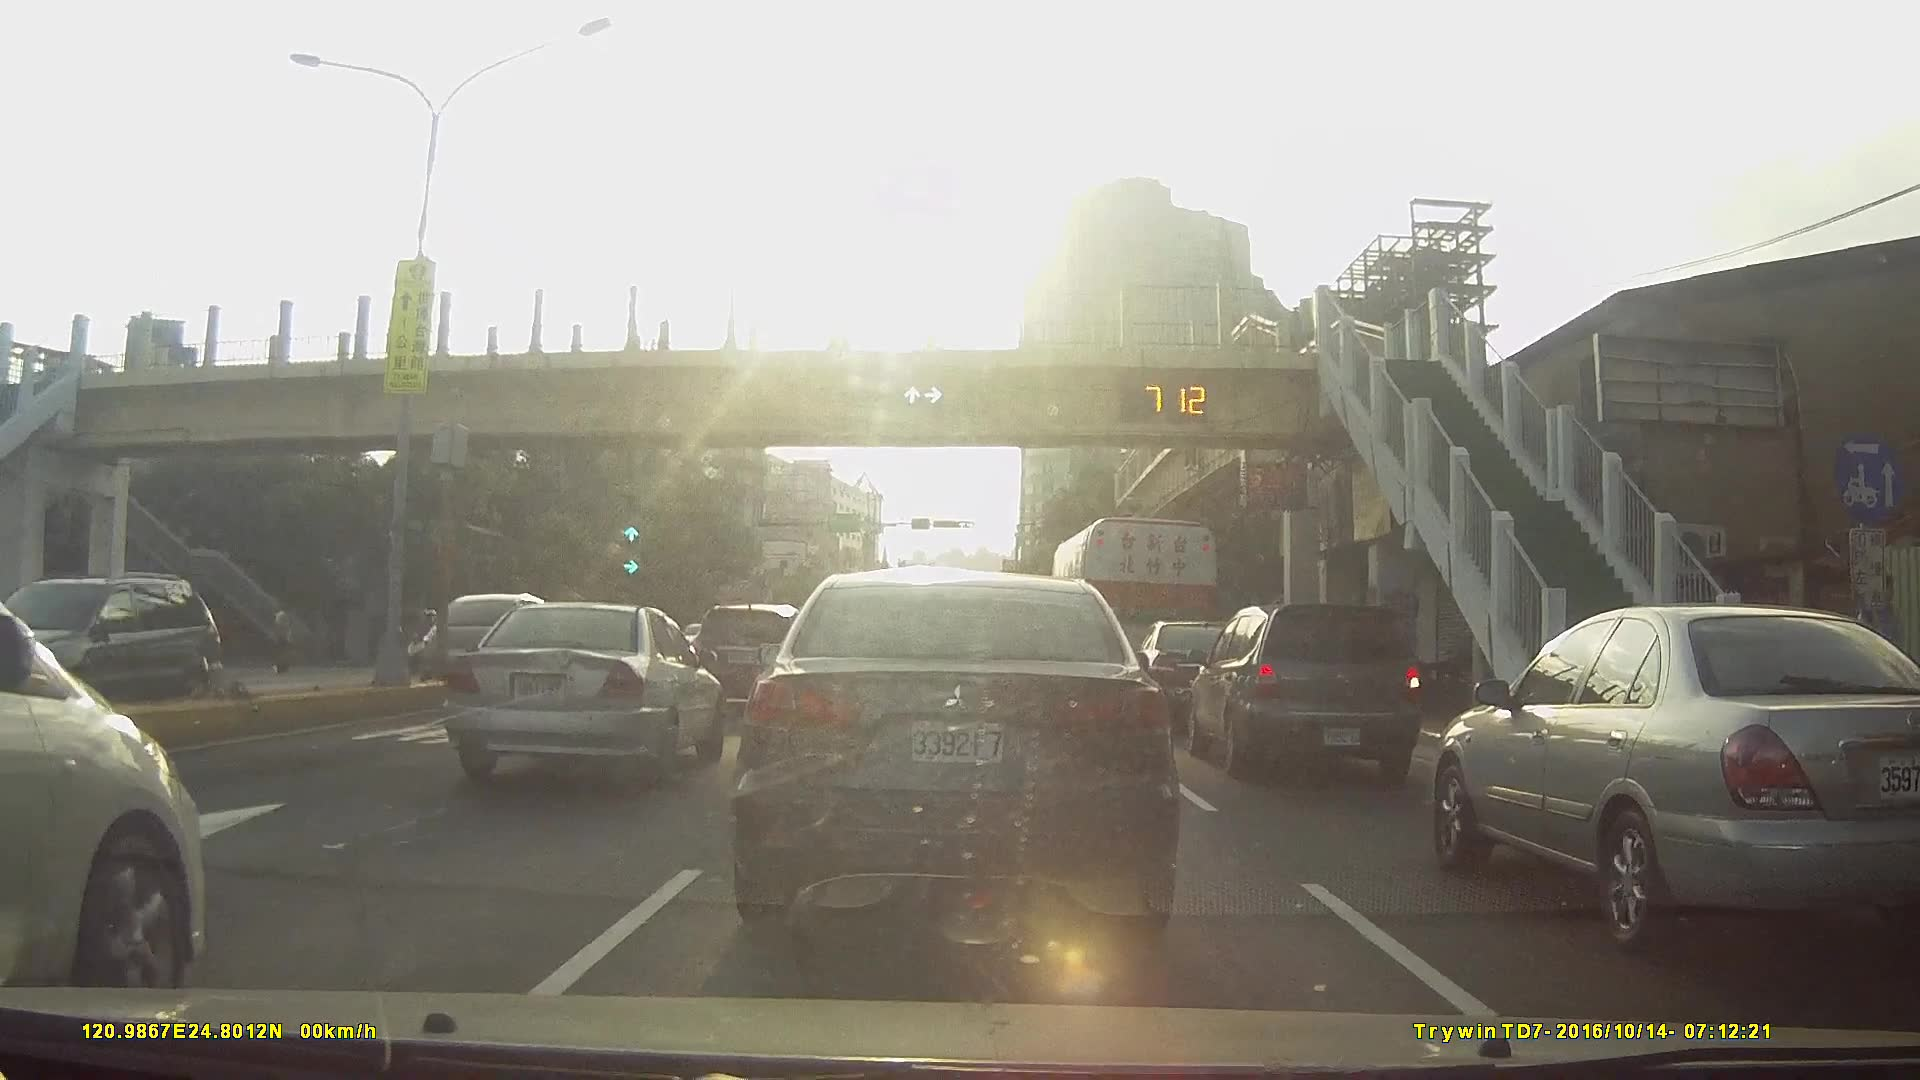vehicle: (1435, 604, 1920, 963), (728, 564, 1182, 939), (0, 560, 229, 1014), (451, 603, 731, 779), (1188, 603, 1437, 786), (1, 568, 253, 728), (400, 589, 556, 691), (1135, 618, 1271, 731), (692, 601, 812, 709)
